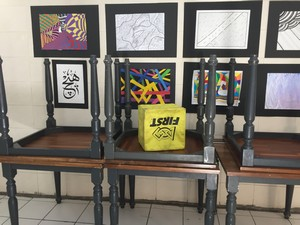cube: (136, 104, 186, 151)
